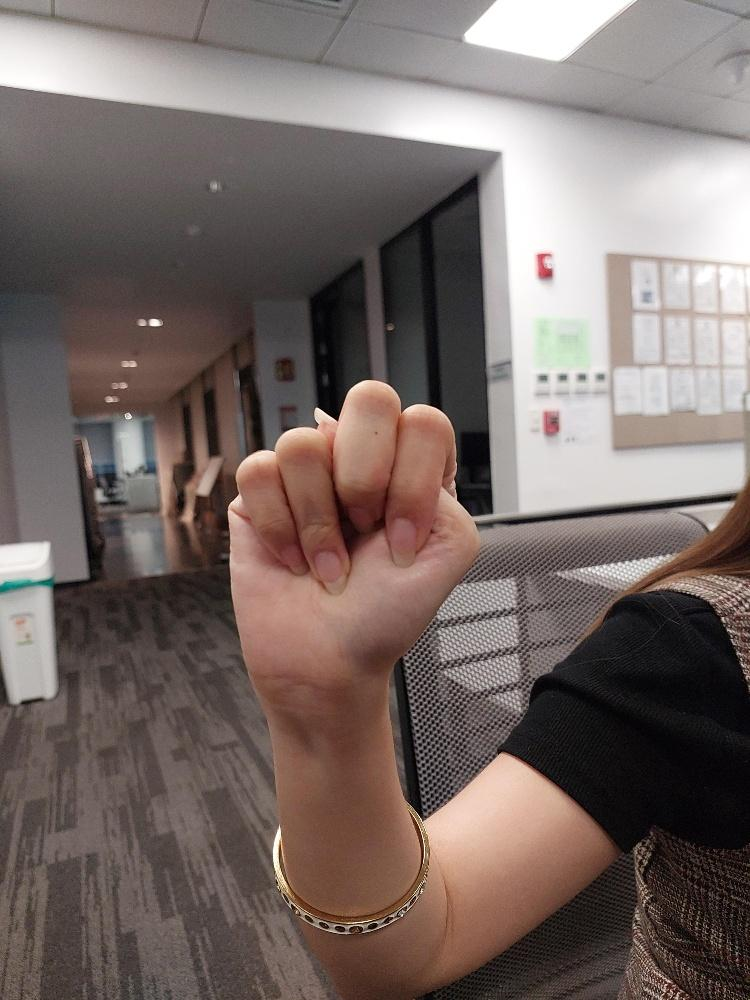n: (225, 375, 484, 685)
